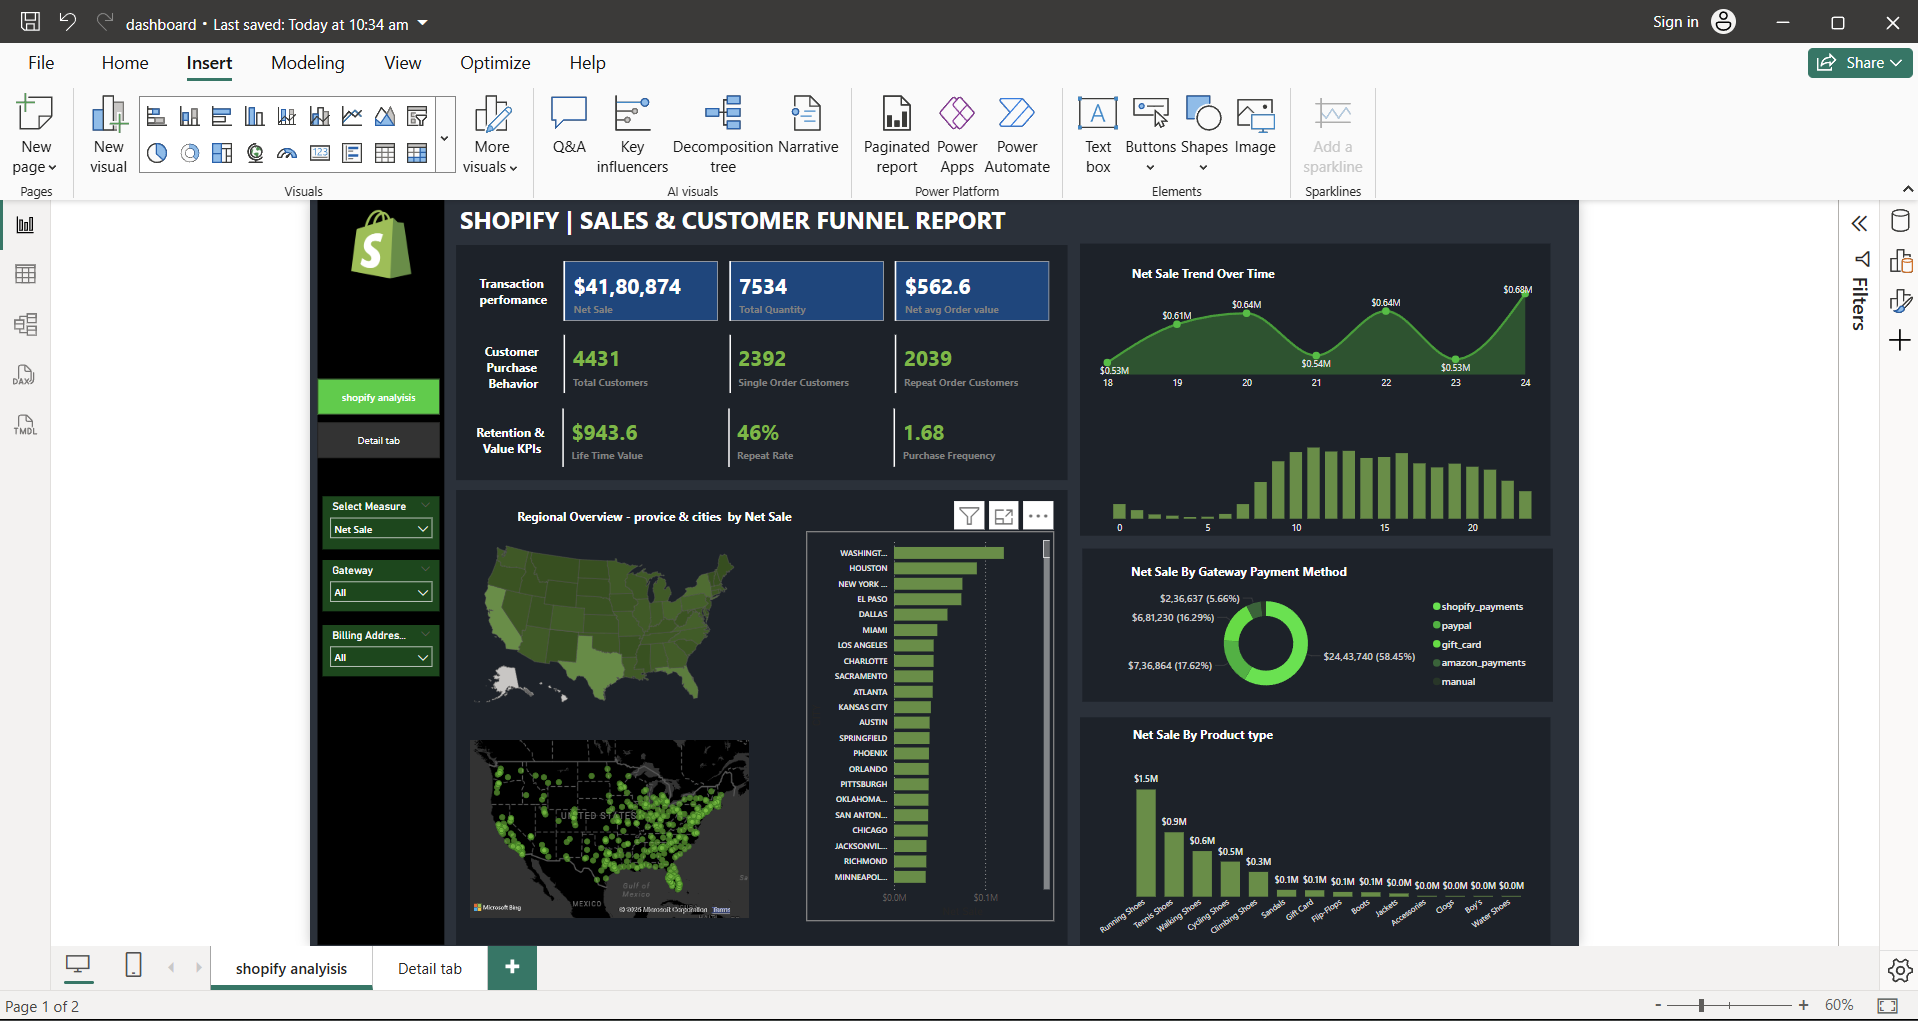

What the dashboard file says about the page in this screenshot:
{"tool":"powerbi","page":{"name":"shopify analyisis","canvas":[1700,1000],"ordinal":0},"visuals":[{"type":"shape","box":[10.1,0,170,998.7],"z":0},{"type":"textbox","box":[196,0,750.7,60.3],"z":1000},{"type":"shape","box":[196,60.3,819.4,315],"z":2000},{"type":"cardVisual","fields":{"Data":["shopify_sales.Net Sales1","shopify_sales.Total Quantity","shopify_sales.Net avg Order value"]},"box":[335.3,76.6,661.1,90.1],"z":3000},{"type":"card","fields":{"Values":["shopify_sales.Transaction Pref"]},"box":[208.9,82.4,126.5,80.5],"z":4000},{"type":"cardVisual","fields":{"Data":["shopify_sales.Total Customers","shopify_sales.Single Order Customers","shopify_sales.Repeat Order Customers"]},"box":[335.1,176.3,661.9,88.8],"z":5000},{"type":"card","fields":{"Values":["shopify_sales.Customer Purchase Behaviur"]},"box":[208.9,179.1,126.5,84.3],"z":6000},{"type":"cardVisual","fields":{"Data":["shopify_sales.Life Time Value","shopify_sales.Repeat Rate","shopify_sales.Purchase Frequency"]},"box":[333.4,274.8,661.9,88.8],"z":7000},{"type":"card","fields":{"Values":["shopify_sales.Retention & Value KPIs"]},"box":[207.8,279.6,126.6,83.1],"z":8000},{"type":"shape","box":[196,388.7,819.4,609.9],"z":9000},{"type":"shapeMap","fields":{"Value":["shopify_sales.Net Sale"],"Category":["shopify_sales.Billing Address Province"]},"box":[195.4,444.6,396.6,249.1],"z":10000},{"type":"slicer","fields":{"Values":["Select Measure.Select Measure"]},"box":[17.2,396.6,157.1,70.9],"z":11000},{"type":"map","fields":{"Category":["shopify_sales.Location"]},"box":[208.9,718.6,383.2,249.1],"z":12000},{"type":"clusteredBarChart","fields":{"Y":["shopify_sales.Net Sale"],"Category":["shopify_sales.CITY"]},"box":[664.9,444.6,331.5,523.1],"z":13000},{"type":"card","fields":{"Values":["shopify_sales.Map Title"]},"box":[208.9,383.2,500.1,84.3],"z":14000},{"type":"shape","box":[1032.8,59.4,630.4,390.9],"z":15000},{"type":"areaChart","fields":{"Y":["shopify_sales.Net Sale"],"Category":["shopify_sales.Invoice Date.Variation.Date Hierarchy.Day"]},"box":[1053.9,101.6,590.2,161],"z":16000},{"type":"columnChart","fields":{"Y":["shopify_sales.Net Sale"],"Category":["shopify_sales.Hour"]},"box":[1070.7,293.2,573.1,164.2],"z":17000},{"type":"card","fields":{"Values":["shopify_sales.Trend Title"]},"box":[1048.1,59.4,297,84.3],"z":18000},{"type":"shape","box":[1034.7,467.5,630.4,205],"z":19000},{"type":"donutChart","fields":{"Y":["shopify_sales.Net Sale"],"Category":["shopify_sales.Gateway"]},"box":[1053.9,517.4,590.2,153.3],"z":20000},{"type":"card","fields":{"Values":["shopify_sales.Gateway Title"]},"box":[994.5,458,500.1,84.3],"z":21000},{"type":"shape","box":[1032.8,693.7,630.4,304.7],"z":22000},{"type":"columnChart","fields":{"Y":["shopify_sales.Net Sale"],"Category":["shopify_sales.Product Type"]},"box":[1053.9,749.2,590.2,249.1],"z":23000},{"type":"card","fields":{"Values":["shopify_sales.Product Title"]},"box":[946.6,676.4,500.1,84.3],"z":24000},{"type":"image","box":[17.2,7.7,157.1,101.6],"z":25000},{"type":"slicer","fields":{"Values":["shopify_sales.Gateway"]},"box":[17.2,482.9,157.1,69],"z":26000},{"type":"slicer","fields":{"Values":["shopify_sales.Billing Address Province"]},"box":[17.2,569.1,157.1,69],"z":27000},{"type":"pageNavigator","box":[10.1,239.6,164.2,107.2],"z":27001}]}

Visuals, with their boxes on the page's 1700x1000 design canvas (x1, y1, x2, y2). These are canvas units, not pixel positions in the 1918x1021 screenshot, which may show the page scaled, cropped or inside an application window:
shape: crop(10, 0, 180, 999)
textbox: crop(196, 0, 947, 60)
shape: crop(196, 60, 1015, 375)
cardVisual - shopify_sales.Net Sales1 x shopify_sales.Total Quantity: crop(335, 77, 996, 167)
card - shopify_sales.Transaction Pref: crop(209, 82, 335, 163)
cardVisual - shopify_sales.Total Customers x shopify_sales.Single Order Customers: crop(335, 176, 997, 265)
card - shopify_sales.Customer Purchase Behaviur: crop(209, 179, 335, 263)
cardVisual - shopify_sales.Life Time Value x shopify_sales.Repeat Rate: crop(333, 275, 995, 364)
card - shopify_sales.Retention & Value KPIs: crop(208, 280, 334, 363)
shape: crop(196, 389, 1015, 999)
shapeMap - shopify_sales.Net Sale x shopify_sales.Billing Address Province: crop(195, 445, 592, 694)
slicer - Select Measure.Select Measure: crop(17, 397, 174, 468)
map - shopify_sales.Location: crop(209, 719, 592, 968)
clusteredBarChart - shopify_sales.Net Sale x shopify_sales.CITY: crop(665, 445, 996, 968)
card - shopify_sales.Map Title: crop(209, 383, 709, 468)
shape: crop(1033, 59, 1663, 450)
areaChart - shopify_sales.Net Sale x shopify_sales.Invoice Date.Variation.Date Hierarchy.Day: crop(1054, 102, 1644, 263)
columnChart - shopify_sales.Net Sale x shopify_sales.Hour: crop(1071, 293, 1644, 457)
card - shopify_sales.Trend Title: crop(1048, 59, 1345, 144)
shape: crop(1035, 468, 1665, 672)
donutChart - shopify_sales.Net Sale x shopify_sales.Gateway: crop(1054, 517, 1644, 671)
card - shopify_sales.Gateway Title: crop(994, 458, 1495, 542)
shape: crop(1033, 694, 1663, 998)
columnChart - shopify_sales.Net Sale x shopify_sales.Product Type: crop(1054, 749, 1644, 998)
card - shopify_sales.Product Title: crop(947, 676, 1447, 761)
image: crop(17, 8, 174, 109)
slicer - shopify_sales.Gateway: crop(17, 483, 174, 552)
slicer - shopify_sales.Billing Address Province: crop(17, 569, 174, 638)
pageNavigator: crop(10, 240, 174, 347)
